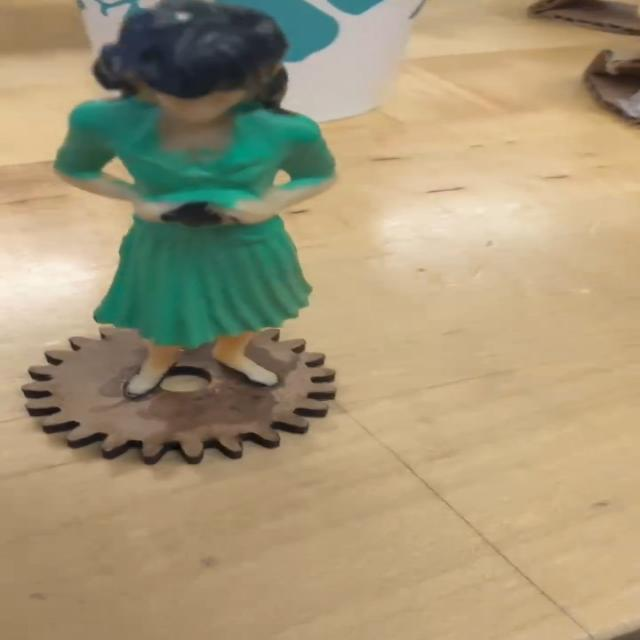Authorized: (31, 8, 346, 424)
